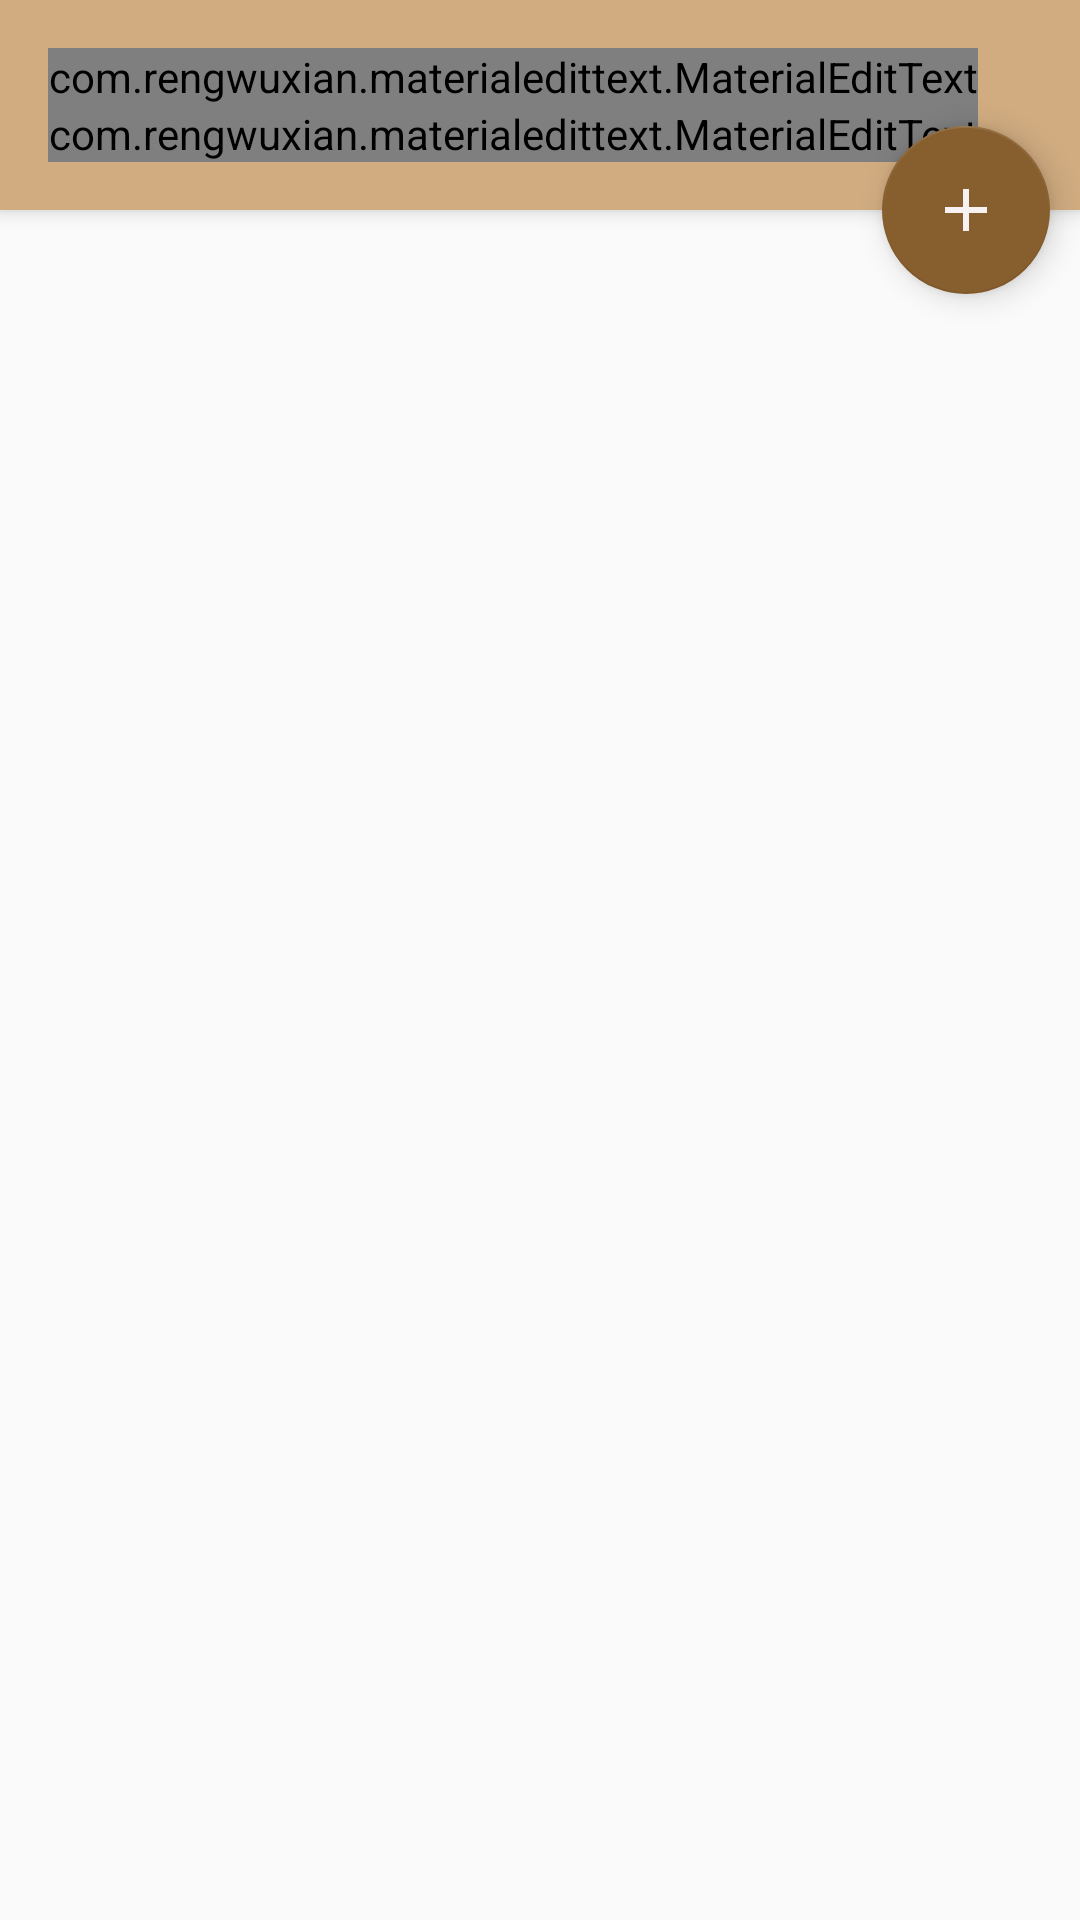

Named icons in this screenshot (1080px×1920px) and their centers, (x=x, y=y):
add: (x=966, y=210)
